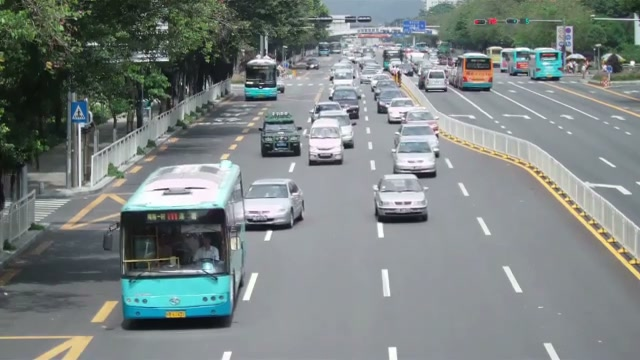bus: (101, 162, 248, 326), (454, 51, 494, 91), (244, 57, 279, 100), (529, 48, 564, 80), (500, 47, 534, 75), (485, 46, 503, 71)
car: (244, 177, 305, 229), (372, 173, 429, 222), (259, 108, 302, 157), (391, 139, 439, 178), (307, 119, 344, 165), (391, 123, 440, 157), (313, 111, 355, 148), (329, 86, 361, 120), (402, 108, 440, 132), (376, 89, 407, 114), (387, 97, 415, 124), (309, 101, 345, 122), (424, 69, 448, 93)
pedestrian: (192, 235, 220, 264), (601, 62, 612, 87)
truck: (259, 108, 302, 157)
